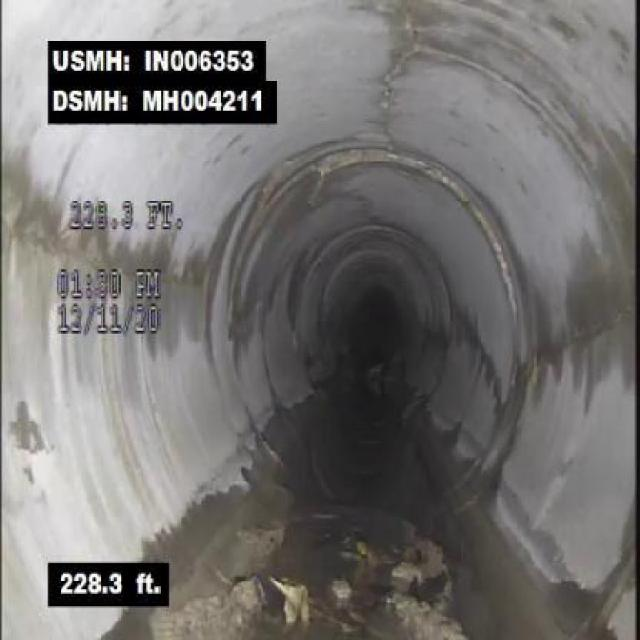Buckling: (264, 150, 330, 204)
Crack: (372, 3, 423, 128), (536, 304, 636, 362)
Debris: (388, 526, 472, 639), (174, 564, 271, 638)
Joint offset: (332, 143, 463, 194)
